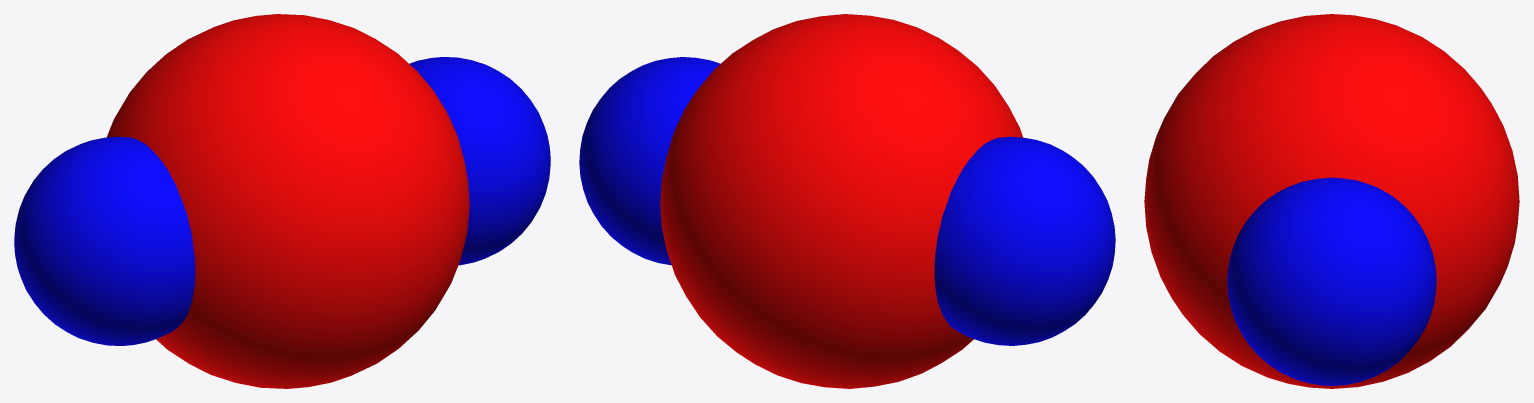
The model's file is linear_space.glb.
The picture shows the model from 3 angles, left to right: view 1: azimuth 30°, elevation 25°; view 2: azimuth 150°, elevation 25°; view 3: azimuth 270°, elevation 25°; orthographic projection.
Parts seen in each view (by area): view 1: linear_space; view 2: linear_space; view 3: linear_space.
Boxes of the visible parts, x1,y1,x2,y2 form: linear_space: (14, 14, 550, 388); linear_space: (579, 14, 1115, 388); linear_space: (1144, 14, 1519, 388).
Bounding box in the file's own units: 3 × 1.92 × 1.92.
